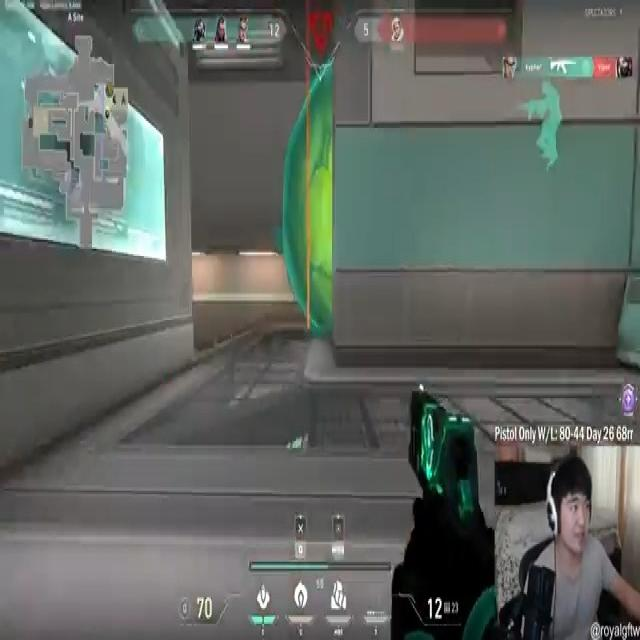ally behind wall: (520, 83, 568, 175)
